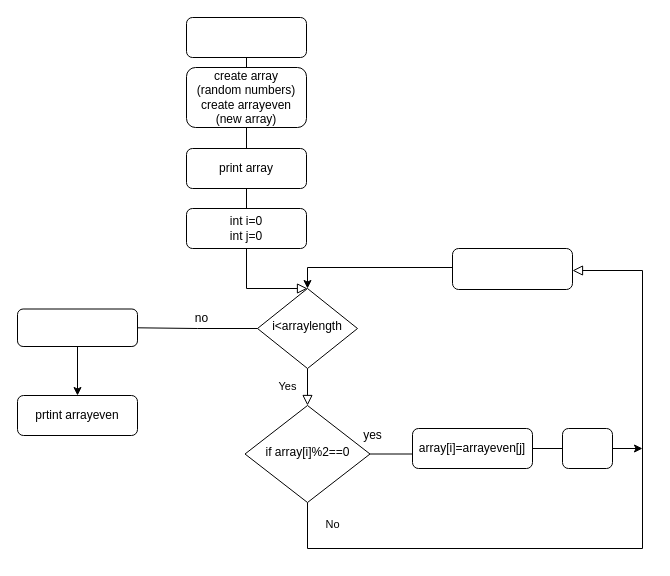
Image size: 670x576. Some labels were removed from this diagram. Here are the shapes that lost their labels. From the top down, the box of each, then its label:
(186, 16, 306, 58): imput arraylength
(452, 248, 572, 290): i++
(16, 308, 138, 346): length arrayeven = j
(562, 428, 612, 468): j++
